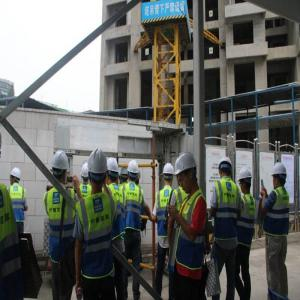white: (177, 152, 199, 197), (88, 148, 108, 191), (50, 150, 70, 187), (272, 161, 289, 192), (218, 155, 234, 183), (239, 167, 253, 198), (107, 157, 120, 186), (127, 160, 140, 185), (163, 162, 175, 189), (10, 167, 22, 190), (81, 163, 92, 188), (121, 166, 129, 185)
